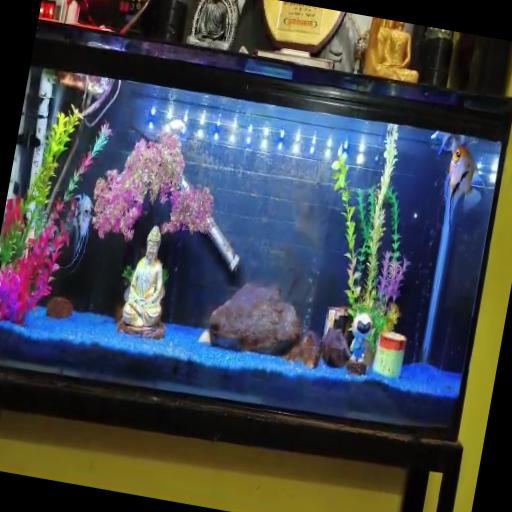Fish: (443, 146, 479, 227), (62, 193, 91, 271), (430, 131, 475, 155)
